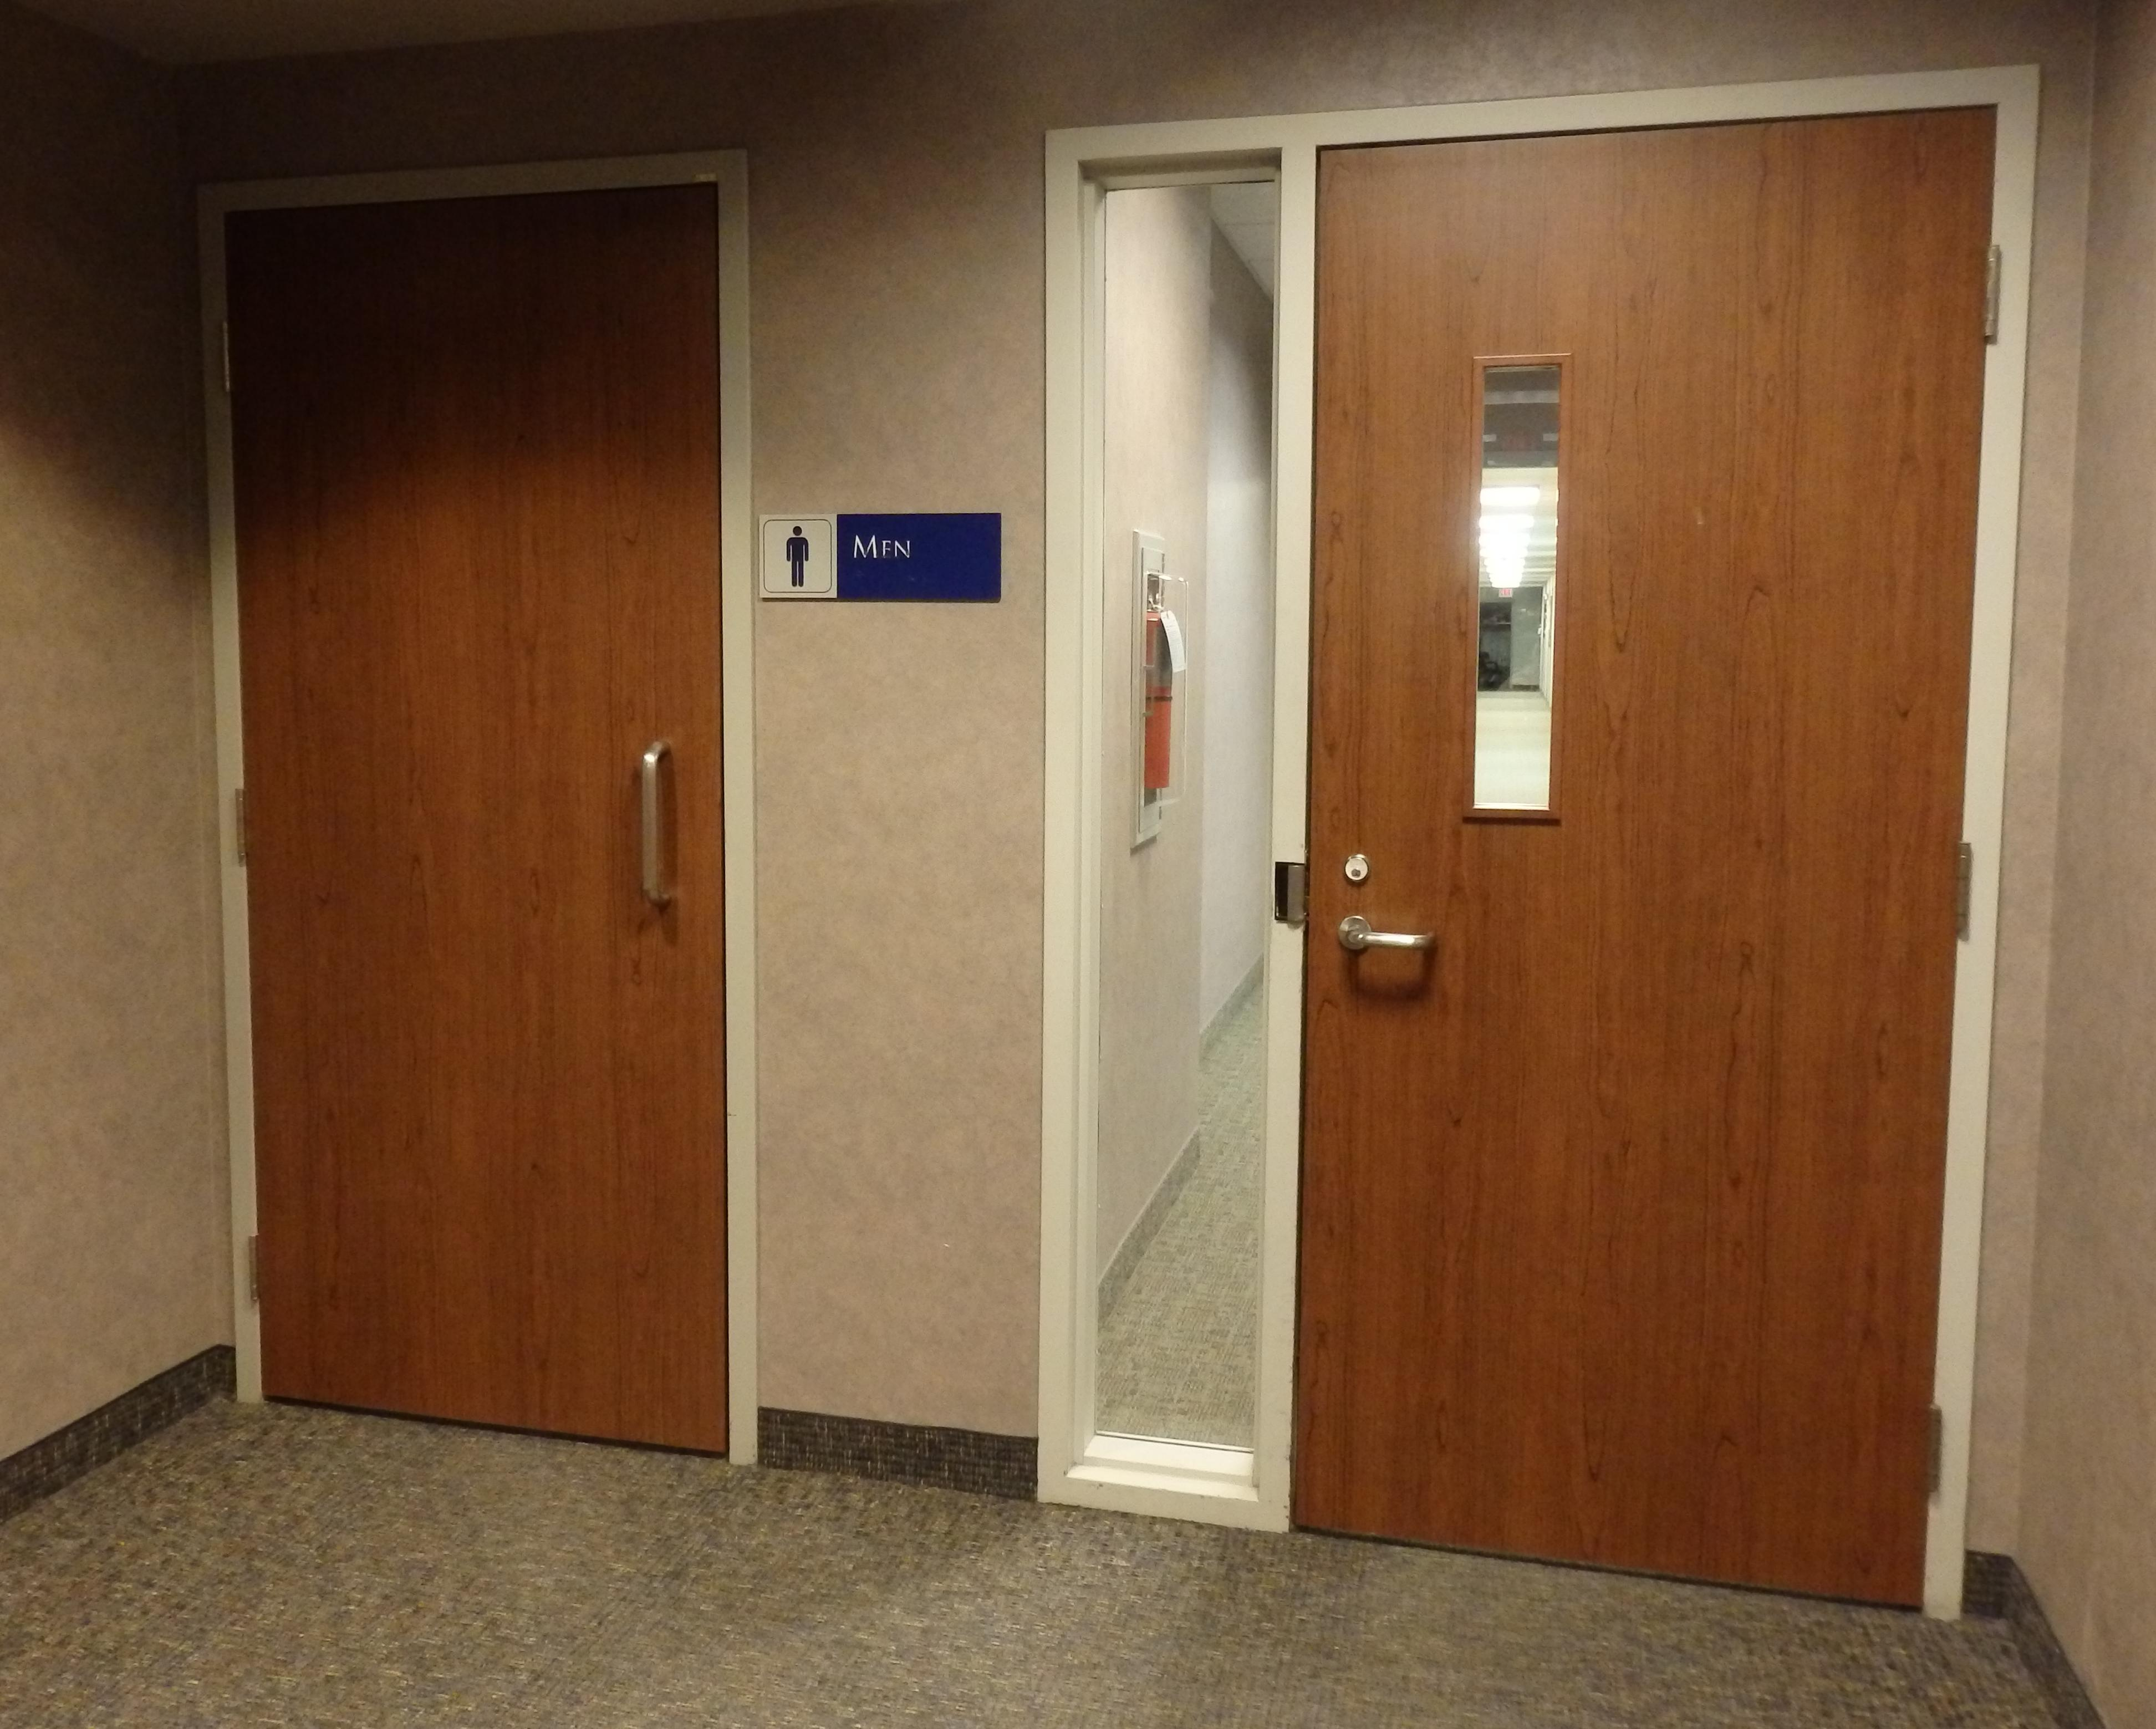door: (1302, 104, 1971, 1627), (205, 178, 745, 1468)
